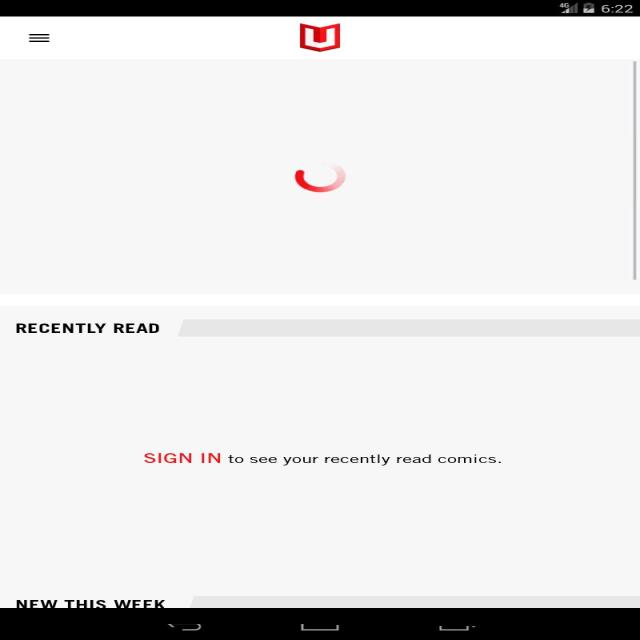button: (21, 24, 57, 49)
heading: (13, 317, 167, 339), (15, 593, 174, 611)
image: (290, 158, 349, 196), (298, 20, 342, 54)
link: (144, 448, 224, 467)
text: (139, 445, 506, 469)
